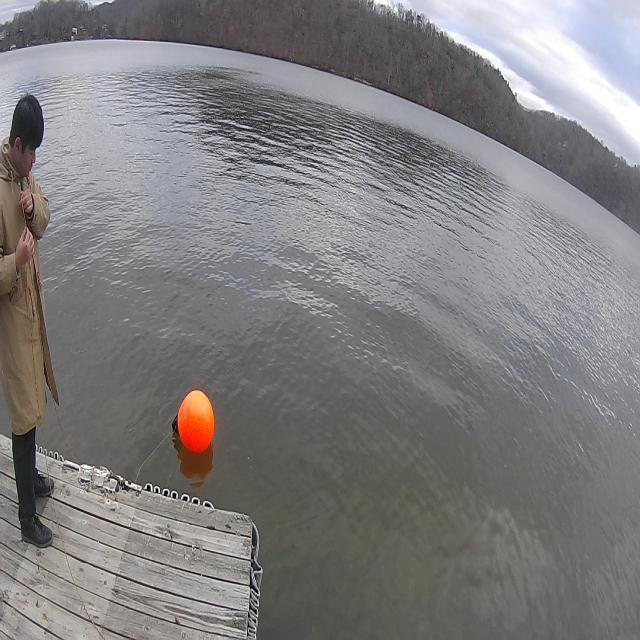Buoy: (169, 385, 219, 467)
